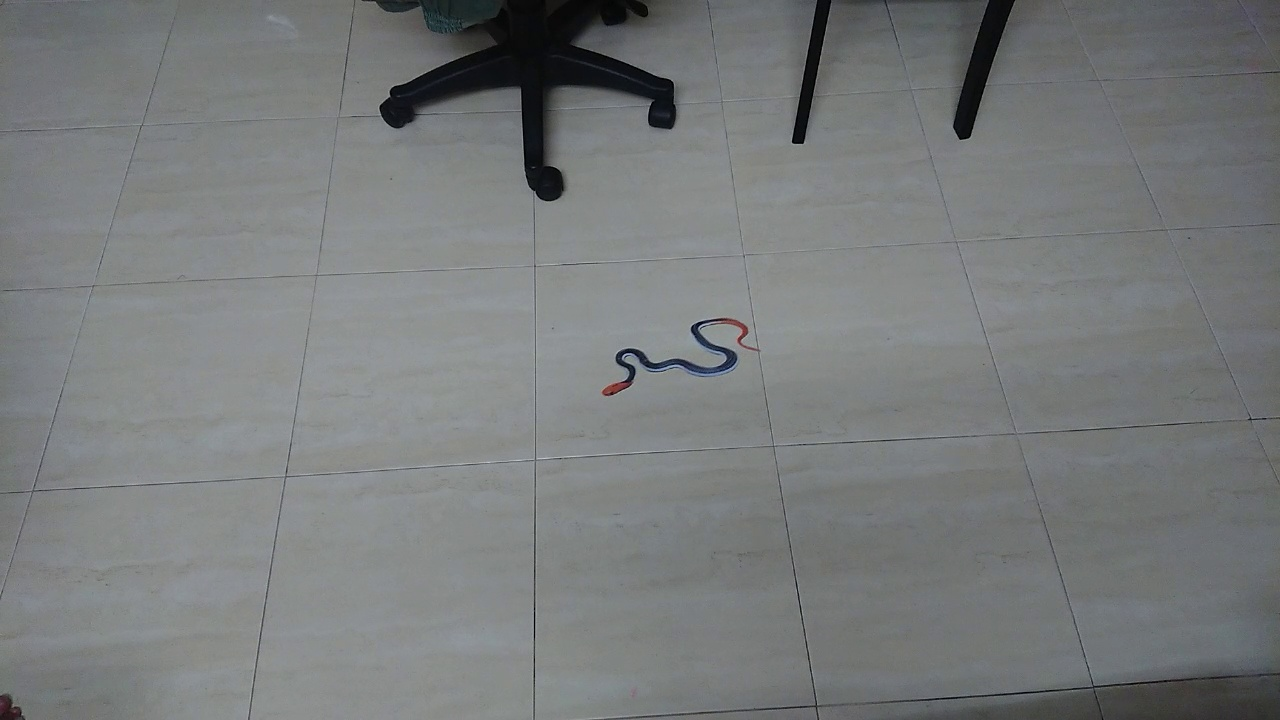snake: (586, 304, 769, 404)
